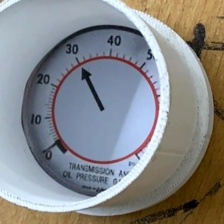gauge: (22, 27, 164, 198)
